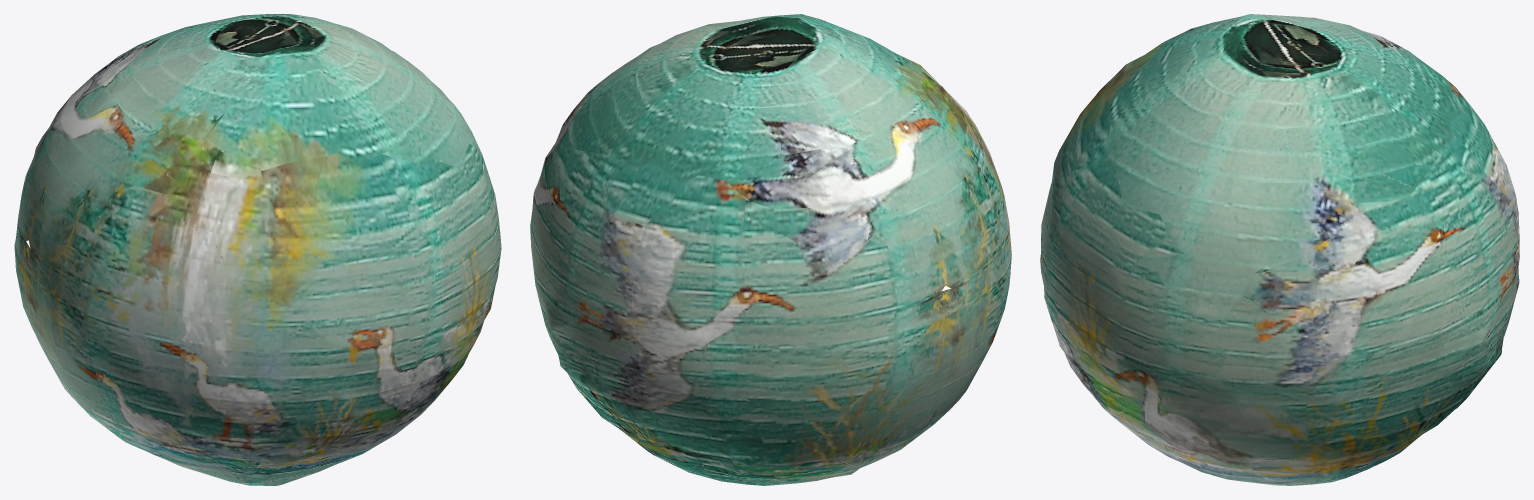
Rendered from AS2 Kyra Birds.glb.
The picture shows the model from 3 angles, left to right: view 1: azimuth 30°, elevation 25°; view 2: azimuth 150°, elevation 25°; view 3: azimuth 270°, elevation 25°; orthographic projection.
Size of the model in its own units: 1000 by 955 by 983.
Materials: 1 (1 with a texture image).
